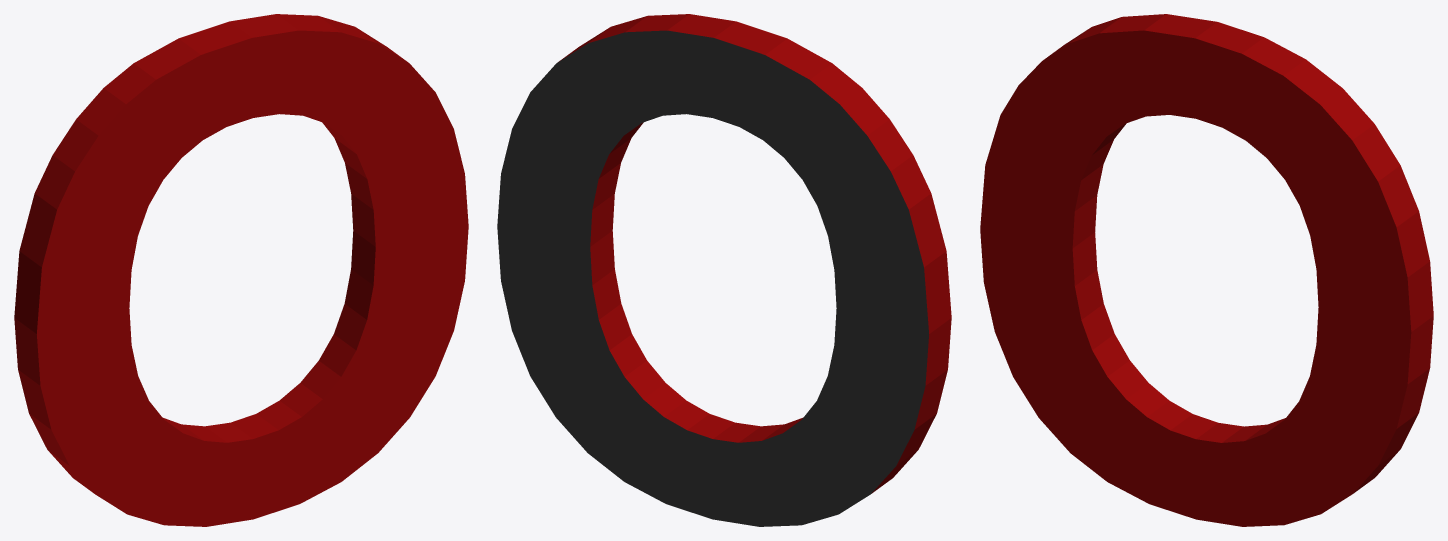
3 views of the same model, side by side, from view 1: azimuth 30°, elevation 25°; view 2: azimuth 150°, elevation 25°; view 3: azimuth 330°, elevation 25° (orthographic).
Parts seen in each view (by area): view 1: O; view 2: O; view 3: O.
Boxes of the visible parts, x1,y1,x2,y2 form: O: (14, 14, 468, 526); O: (497, 14, 951, 526); O: (980, 14, 1433, 526).
Size of the model in its own units: 59.87 by 63.83 by 5.41.
